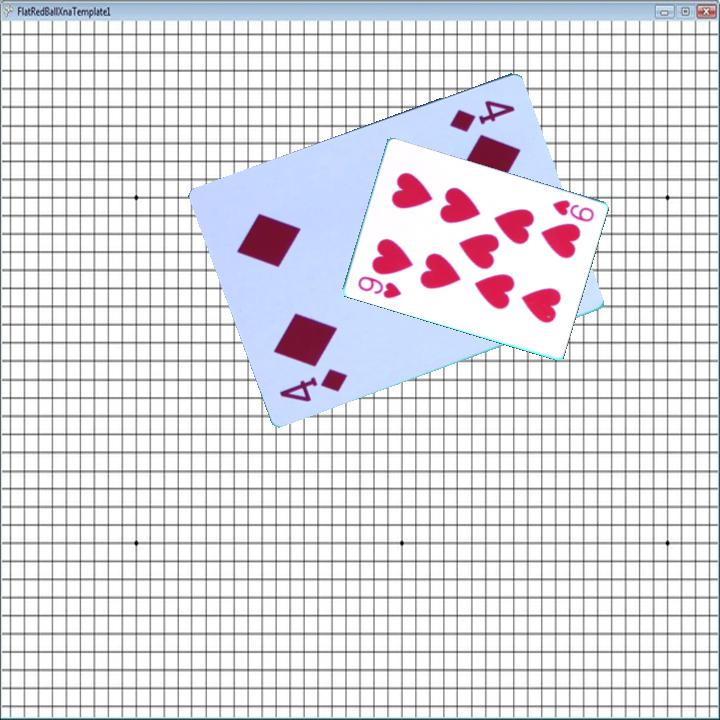4d: (275, 365, 351, 406), (445, 97, 518, 136)
9h: (354, 273, 404, 302), (548, 196, 597, 225)
